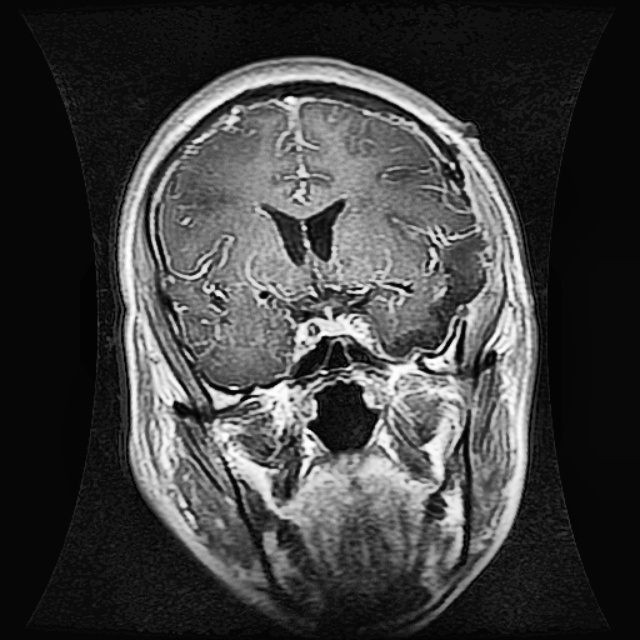Glioma: (394, 229, 488, 357)
